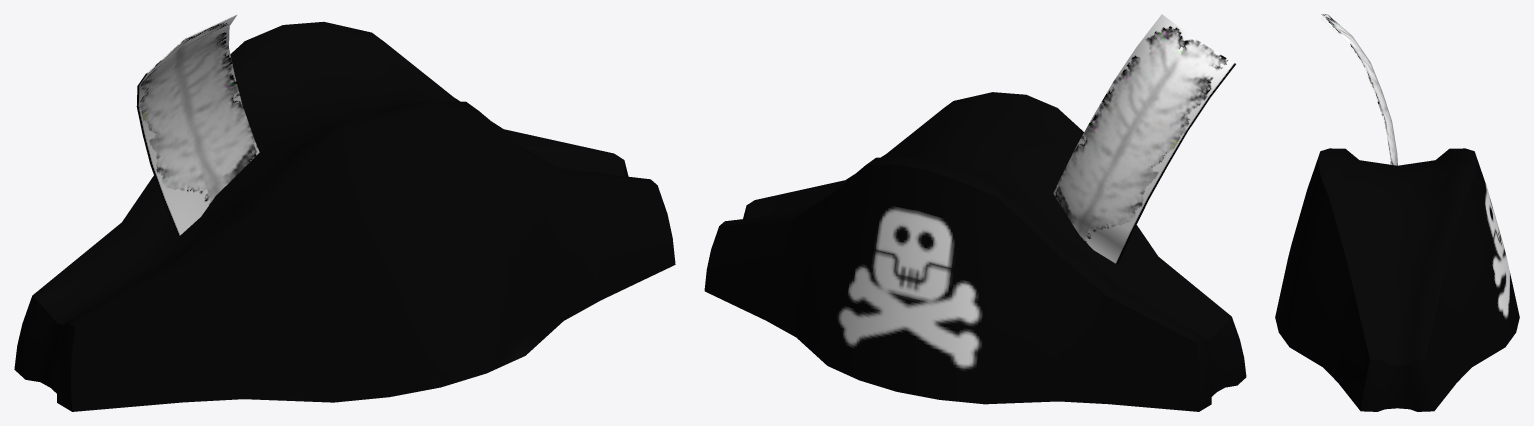
Rendered from pirate.glb.
3 renders of one model, left to right at view 1: azimuth 30°, elevation 25°; view 2: azimuth 150°, elevation 25°; view 3: azimuth 270°, elevation 25°, orthographic. The views are drawn at different scales.
Parts seen in each view (by area): view 1: Part1; view 2: Part1; view 3: Part1.
Boxes of the visible parts, x1,y1,x2,y2 form: Part1: [14, 14, 675, 411]; Part1: [704, 14, 1246, 411]; Part1: [1275, 14, 1519, 411].
Size of the model in its own units: 2.35 by 1.43 by 1.28.
1 material, 1 textured.
